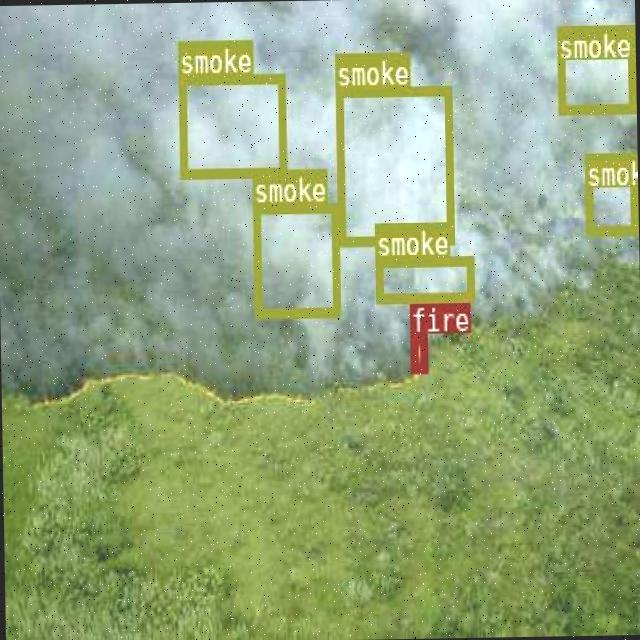fire: (410, 332, 426, 370)
smoke: (334, 83, 453, 245), (176, 71, 284, 177), (251, 201, 338, 315), (556, 24, 633, 111), (374, 253, 474, 300), (584, 150, 636, 232)
